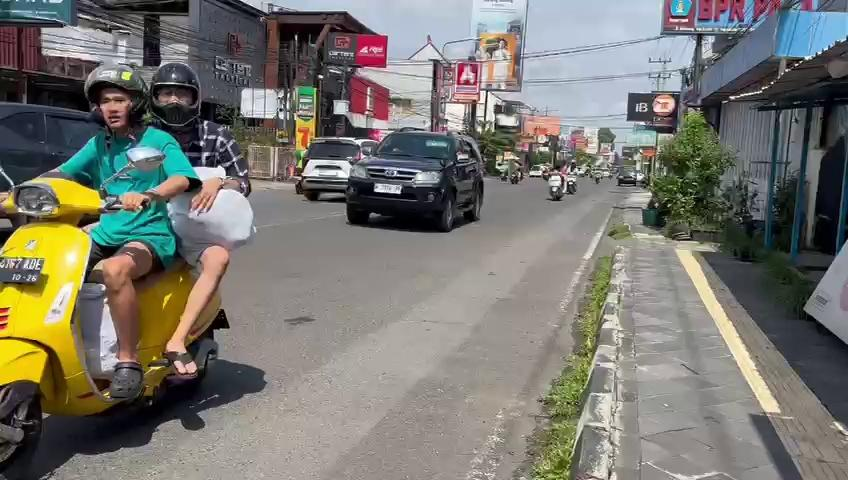helm: (81, 57, 149, 137), (149, 56, 205, 141)
riding: (0, 56, 263, 479)
